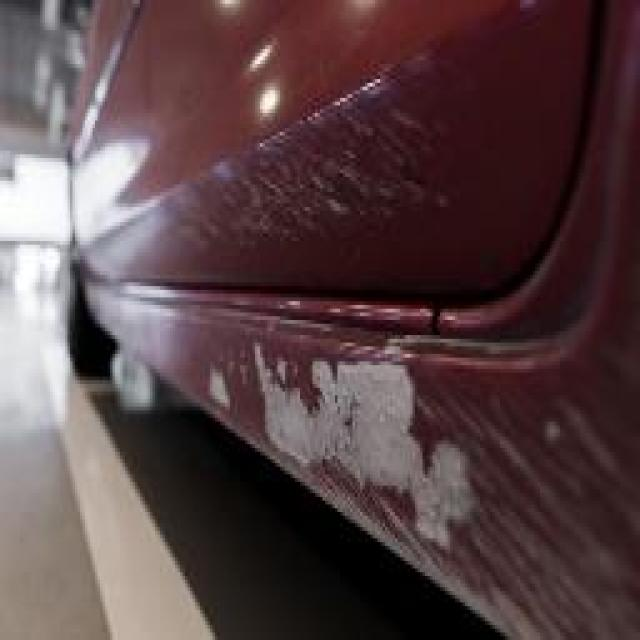Door: (172, 60, 640, 617)
